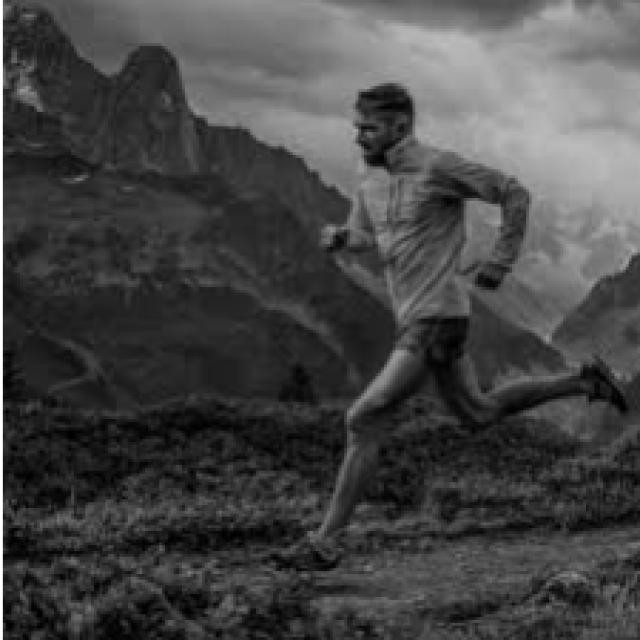running: (275, 84, 630, 575)
